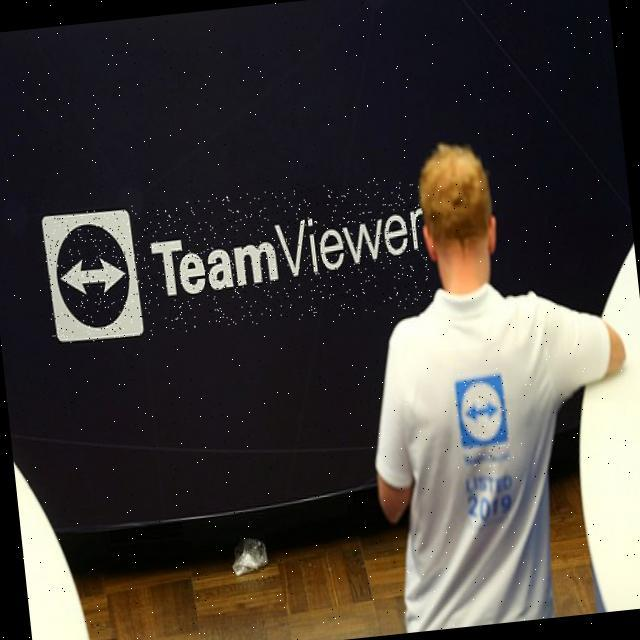TeamViewer: (40, 175, 433, 345), (453, 374, 512, 469)
